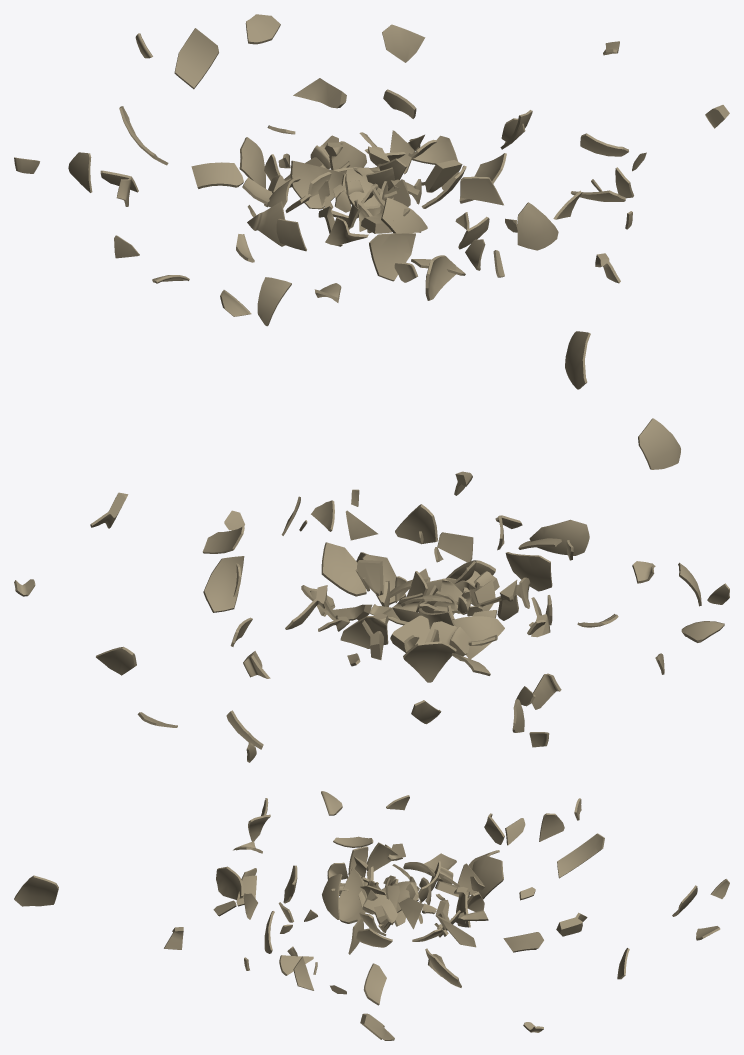
Rendered from Broken Vase.fbx.
3 views of the same model, one above another, from view 1: azimuth 30°, elevation 25°; view 2: azimuth 150°, elevation 25°; view 3: azimuth 270°, elevation 25° (orthographic). The views are drawn at different scales.
Visible parts, largest first — view 1: Broken vase; view 2: Broken vase; view 3: Broken vase.
Part boxes in pixels (x1,y1,x2,y2): Broken vase: (14, 14, 729, 389); Broken vase: (14, 418, 729, 762); Broken vase: (14, 791, 729, 1040).
Size of the model in its own units: 868 by 80.47 by 1105.
